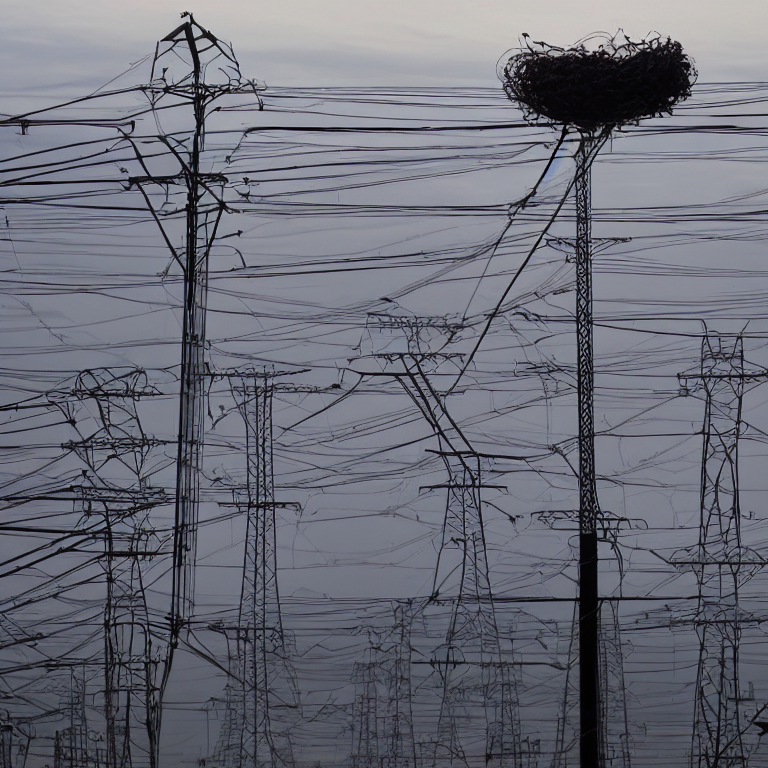nest: (502, 39, 689, 131)
